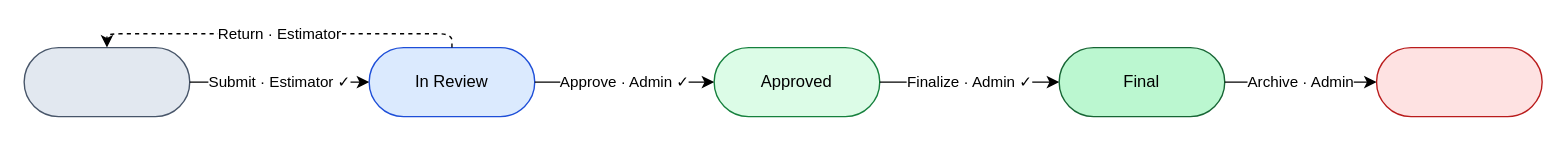
Some shapes in this 1566 by 141 pixel diagram are drawn without their labels. The shapes that lost their labels are listed below. From the top down, each one's box as (x1, y1, x2, y2) in pixels, then its label:
(23, 46, 190, 117): Draft
(1375, 46, 1542, 117): Archived
